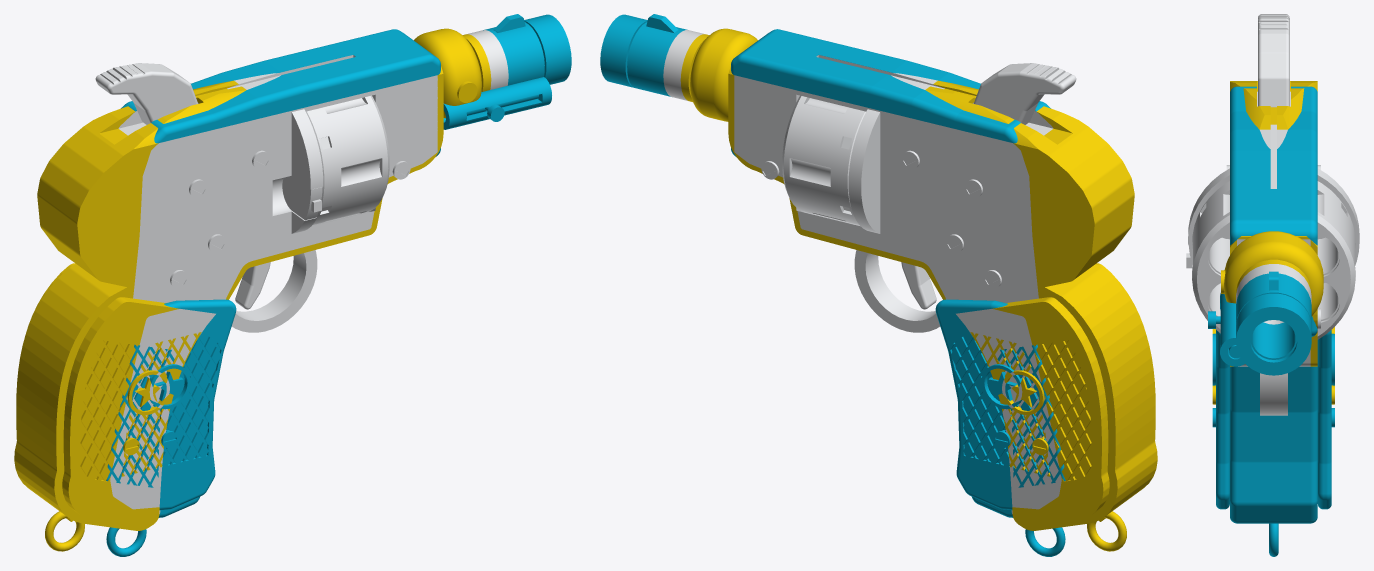
Rendered from diff_volume.glb.
The picture shows the model from 3 angles, left to right: view 1: azimuth 30°, elevation 25°; view 2: azimuth 150°, elevation 25°; view 3: azimuth 270°, elevation 25°; orthographic projection. The views are drawn at different scales.
Parts seen in each view (by area): view 1: =>[0:1:1:2], =>[0:1:1:88], =>[0:1:1:131], =>[0:1:1:19], =>[0:1:1:55], =>[0:1:1:3], =>[0:1:1:14], =>[0:1:1:23], =>[0:1:1:15], =>[0:1:1:96], =>[0:1:1:86], =>[0:1:1:93] (+7 smaller); view 2: =>[0:1:1:2], =>[0:1:1:88], =>[0:1:1:99], =>[0:1:1:19], =>[0:1:1:25], =>[0:1:1:3], =>[0:1:1:13], =>[0:1:1:15], =>[0:1:1:96], =>[0:1:1:23], =>[0:1:1:86], =>[0:1:1:93] (+7 smaller); view 3: =>[0:1:1:20], =>[0:1:1:19], =>[0:1:1:3], =>[0:1:1:2], =>[0:1:1:86], =>[0:1:1:96], =>[0:1:1:15], =>[0:1:1:25], =>[0:1:1:23], =>[0:1:1:55], =>[0:1:1:93], =>[0:1:1:22] (+6 smaller).
Boxes of the visible parts, x1,y1,x2,y2 form: =>[0:1:1:2]: [118, 55, 437, 513]; =>[0:1:1:88]: [14, 106, 159, 530]; =>[0:1:1:131]: [62, 297, 179, 526]; =>[0:1:1:19]: [121, 29, 440, 143]; =>[0:1:1:55]: [158, 299, 236, 510]; =>[0:1:1:3]: [306, 95, 389, 224]; =>[0:1:1:14]: [110, 309, 215, 509]; =>[0:1:1:23]: [443, 14, 551, 129]; =>[0:1:1:15]: [95, 63, 198, 124]; =>[0:1:1:96]: [414, 28, 481, 118]; =>[0:1:1:86]: [524, 14, 571, 84]; =>[0:1:1:93]: [157, 80, 246, 123]; =>[0:1:1:2]: [734, 55, 1053, 513]; =>[0:1:1:88]: [1012, 106, 1157, 530]; =>[0:1:1:99]: [992, 297, 1109, 526]; =>[0:1:1:19]: [731, 29, 1050, 143]; =>[0:1:1:25]: [935, 299, 1013, 510]; =>[0:1:1:3]: [782, 95, 865, 224]; =>[0:1:1:13]: [956, 309, 1061, 509]; =>[0:1:1:15]: [973, 63, 1076, 124]; =>[0:1:1:96]: [690, 28, 757, 121]; =>[0:1:1:23]: [627, 14, 687, 96]; =>[0:1:1:86]: [600, 14, 647, 87]; =>[0:1:1:93]: [925, 80, 1014, 123]; =>[0:1:1:20]: [1230, 366, 1317, 523]; =>[0:1:1:19]: [1230, 86, 1317, 245]; =>[0:1:1:3]: [1192, 181, 1355, 339]; =>[0:1:1:2]: [1188, 91, 1359, 415]; =>[0:1:1:86]: [1236, 293, 1311, 375]; =>[0:1:1:96]: [1224, 231, 1323, 316]; =>[0:1:1:15]: [1258, 14, 1289, 107]; =>[0:1:1:25]: [1317, 330, 1334, 509]; =>[0:1:1:23]: [1220, 271, 1311, 366]; =>[0:1:1:55]: [1212, 330, 1229, 509]; =>[0:1:1:93]: [1243, 88, 1304, 129]; =>[0:1:1:22]: [1250, 322, 1297, 359].
Size of the model in its own units: 165 by 147 by 43.38.
